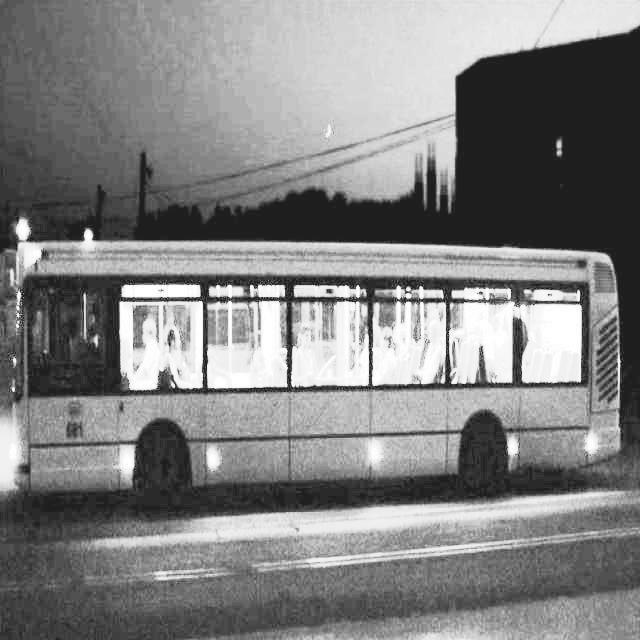Bus: (5, 230, 637, 515)
